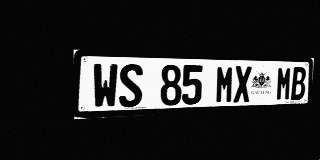5: (182, 65, 203, 105)
8: (160, 64, 182, 106)
B: (291, 67, 306, 100)
M: (215, 66, 234, 103), (276, 67, 292, 101)
S: (119, 64, 143, 108)
W: (93, 63, 118, 109)
X: (233, 66, 252, 103)
